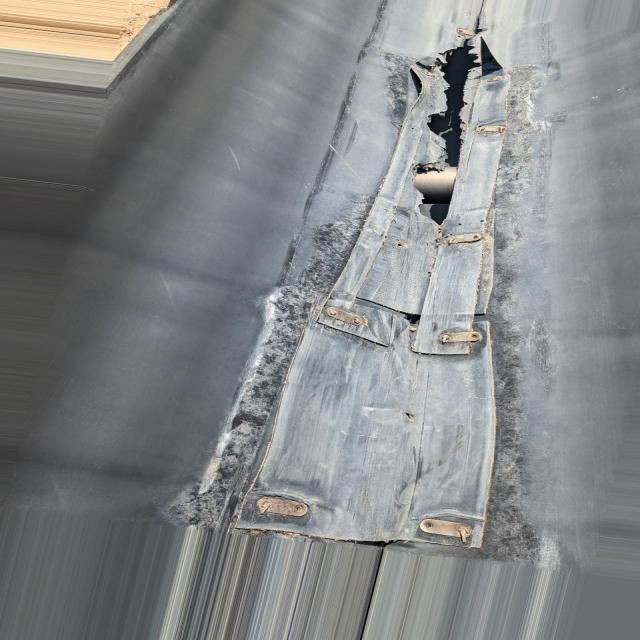Hole: (416, 40, 491, 220)
patch work: (229, 23, 522, 545)
